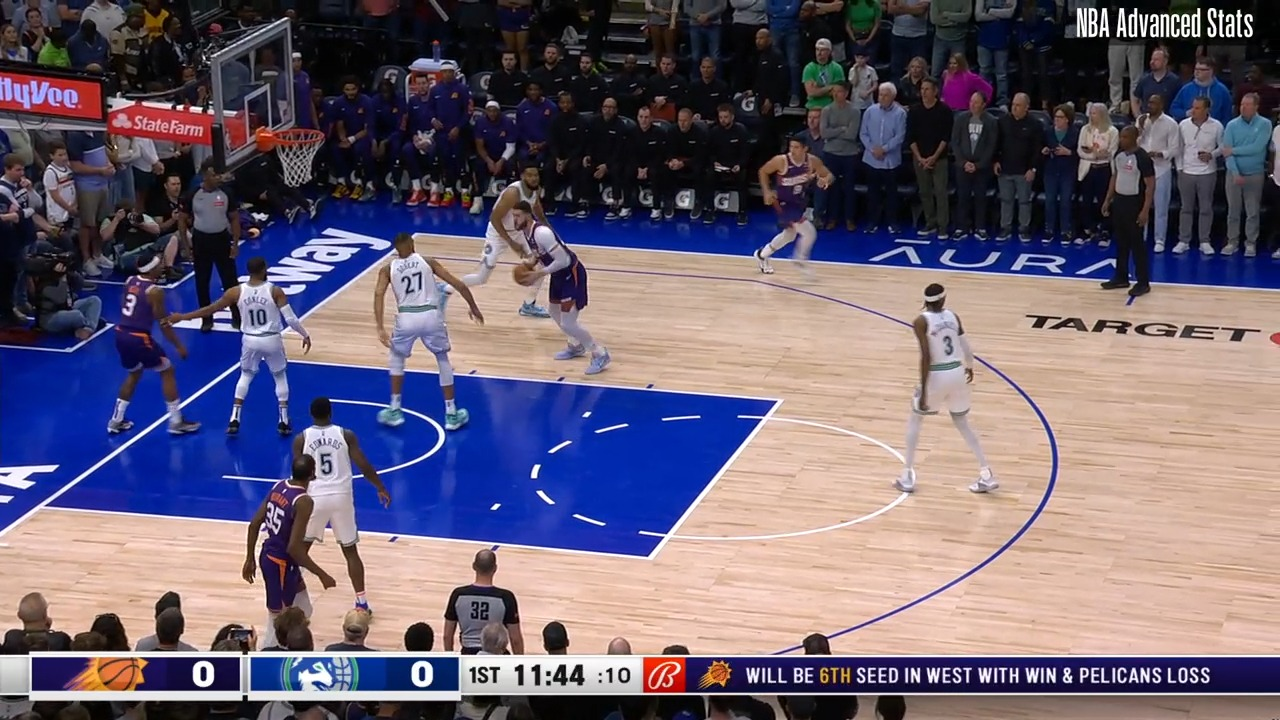basketball: (511, 259, 542, 288)
